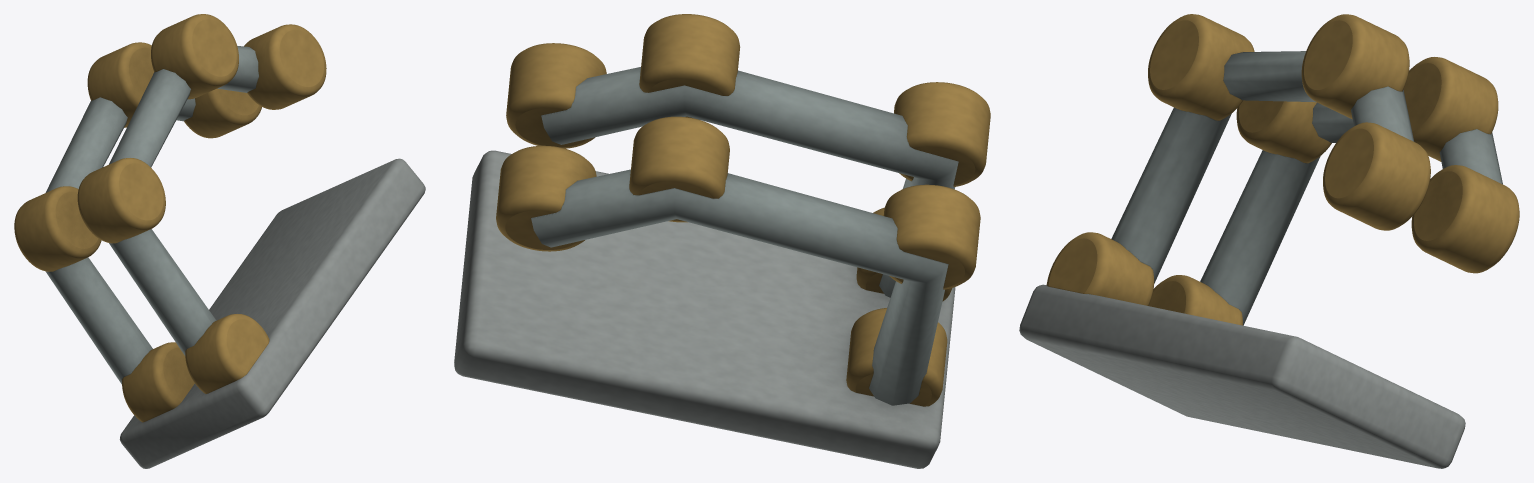
3 renders of one model, left to right at view 1: azimuth 30°, elevation 25°; view 2: azimuth 150°, elevation 25°; view 3: azimuth 270°, elevation 25°, orthographic. The views are drawn at different scales.
Parts seen in each view (by area): view 1: Arm installation foot; view 2: Arm installation foot; view 3: Arm installation foot.
Part boxes in pixels (left/top/right/bottom): Arm installation foot: left=14, top=14, right=425, bottom=468; Arm installation foot: left=454, top=14, right=990, bottom=468; Arm installation foot: left=1019, top=14, right=1519, bottom=468.
Bounding box in the file's own units: 1.27 × 1.14 × 1.11.
1 material, 1 textured.
